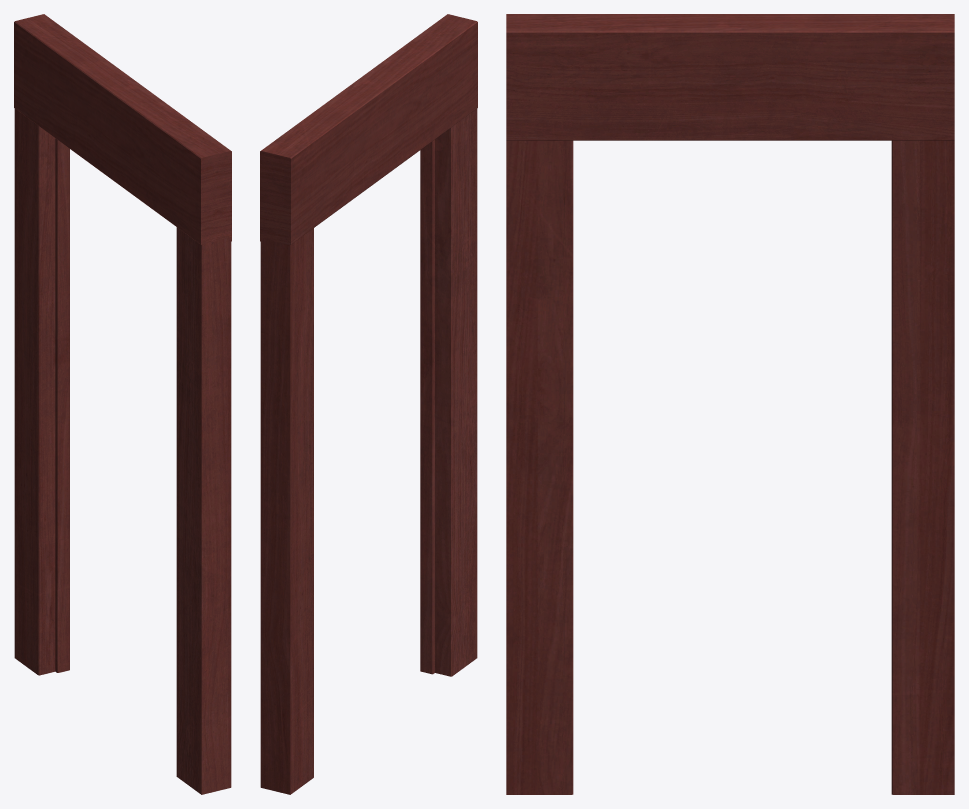
File: SM_SMJC_DoorframeA.fbx
The picture shows the model from 3 angles, left to right: view 1: azimuth 30°, elevation 25°; view 2: azimuth 150°, elevation 25°; view 3: azimuth 270°, elevation 25°; orthographic projection. The views are drawn at different scales.
Parts seen in each view (by area): view 1: SM_SMJC_DoorframeA; view 2: SM_SMJC_DoorframeA; view 3: SM_SMJC_DoorframeA.
Part boxes in pixels (bbox=[...]): SM_SMJC_DoorframeA: bbox=[14, 14, 231, 794]; SM_SMJC_DoorframeA: bbox=[260, 14, 477, 794]; SM_SMJC_DoorframeA: bbox=[506, 14, 954, 794].
Bounding box in the file's own units: 10.12 × 106 × 200.
1 material, 1 textured.
